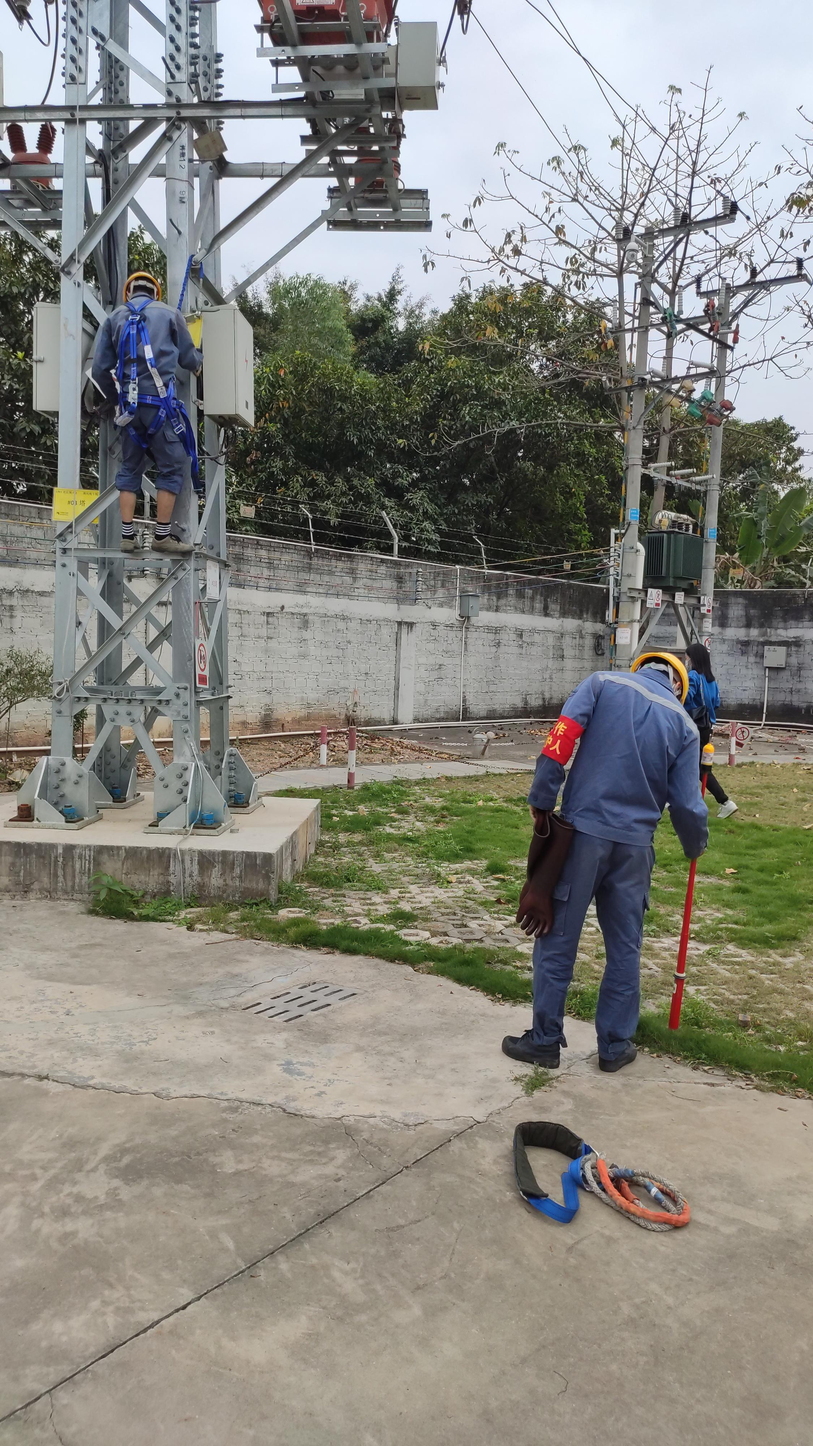绝缘操作杆: (667, 732, 716, 1031)
